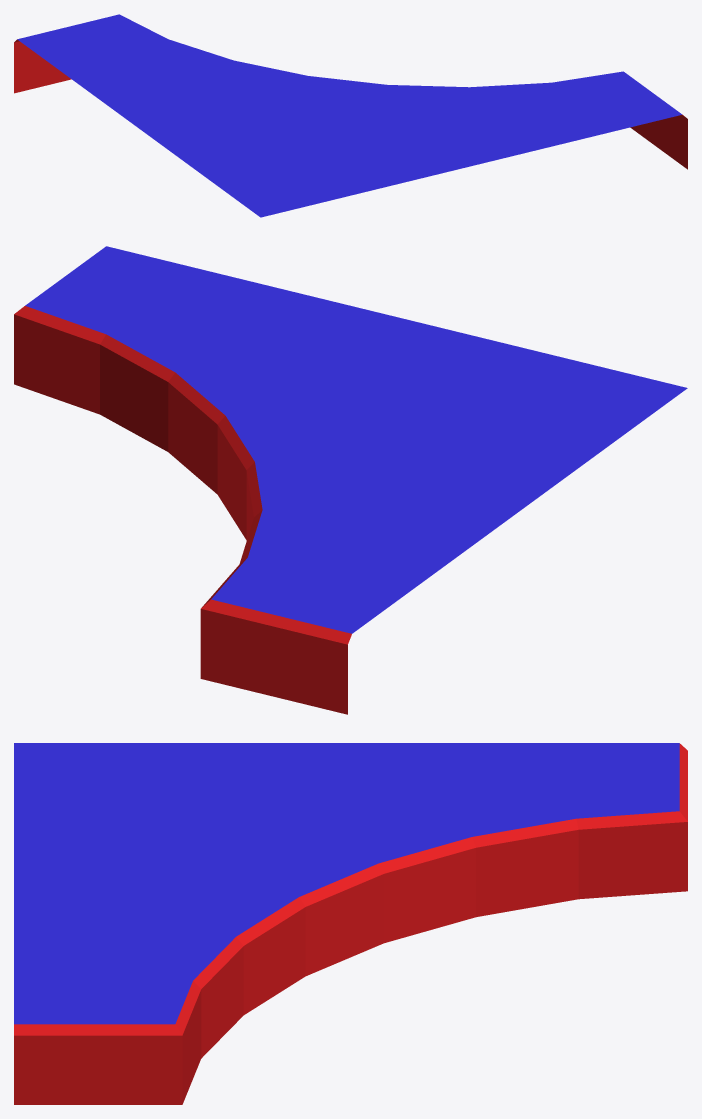
File: SideWalk_inner_incomplete.fbx
3 views of the same model, one above another, from view 1: azimuth 30°, elevation 25°; view 2: azimuth 150°, elevation 25°; view 3: azimuth 270°, elevation 25° (orthographic). The views are drawn at different scales.
Visible parts, largest first — view 1: Remate calzada interno incompleto; view 2: Remate calzada interno incompleto; view 3: Remate calzada interno incompleto.
Part boxes in pixels (bbox=[...]): Remate calzada interno incompleto: bbox=[14, 14, 687, 217]; Remate calzada interno incompleto: bbox=[14, 246, 687, 714]; Remate calzada interno incompleto: bbox=[14, 743, 687, 1104].
Size of the model in its own units: 800 by 101 by 800.
